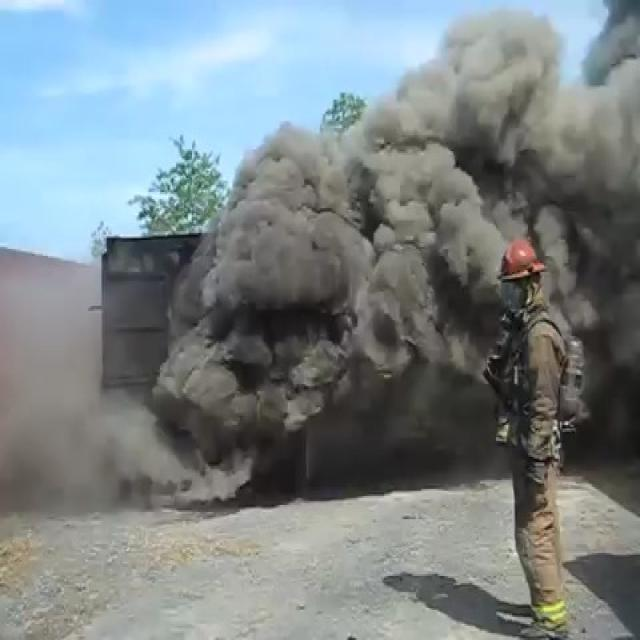Smoke: (206, 69, 482, 468)
